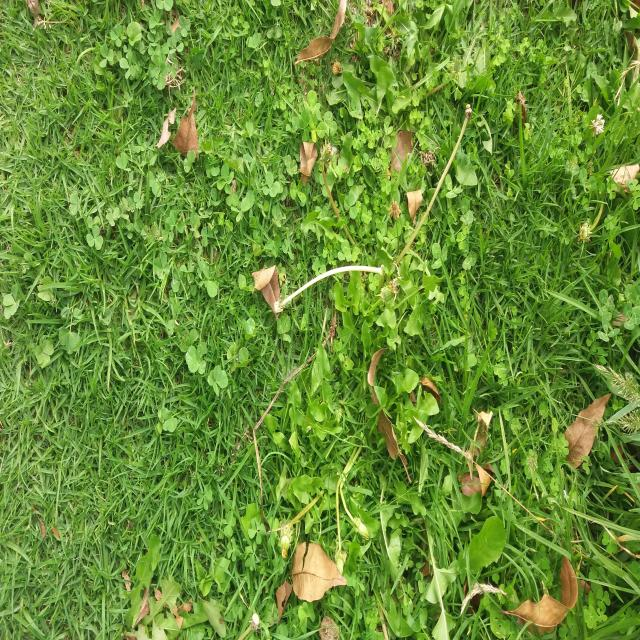Four Leaf Clover: (185, 342, 206, 374), (208, 365, 228, 397), (262, 171, 280, 197)
